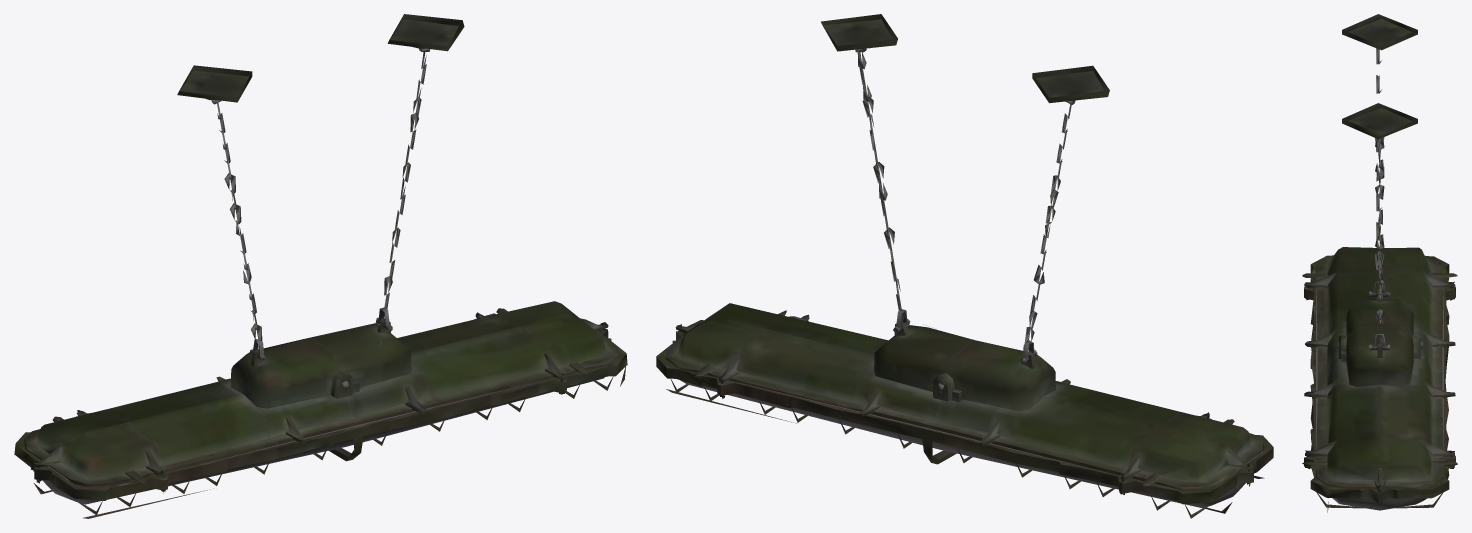
The model's file is caged_hanging_light_lod2.glb.
The picture shows the model from 3 angles, left to right: view 1: azimuth 30°, elevation 25°; view 2: azimuth 150°, elevation 25°; view 3: azimuth 270°, elevation 25°; orthographic projection. The views are drawn at different scales.
Parts seen in each view (by area): view 1: caged_hanging_light; view 2: caged_hanging_light; view 3: caged_hanging_light.
Boxes of the visible parts, x1,y1,x2,y2 form: caged_hanging_light: (14,14,627,518); caged_hanging_light: (656,14,1273,518); caged_hanging_light: (1302,14,1457,512).
Size of the model in its own units: 1.16 by 0.7501 by 0.3149.
1 material, 1 textured.
